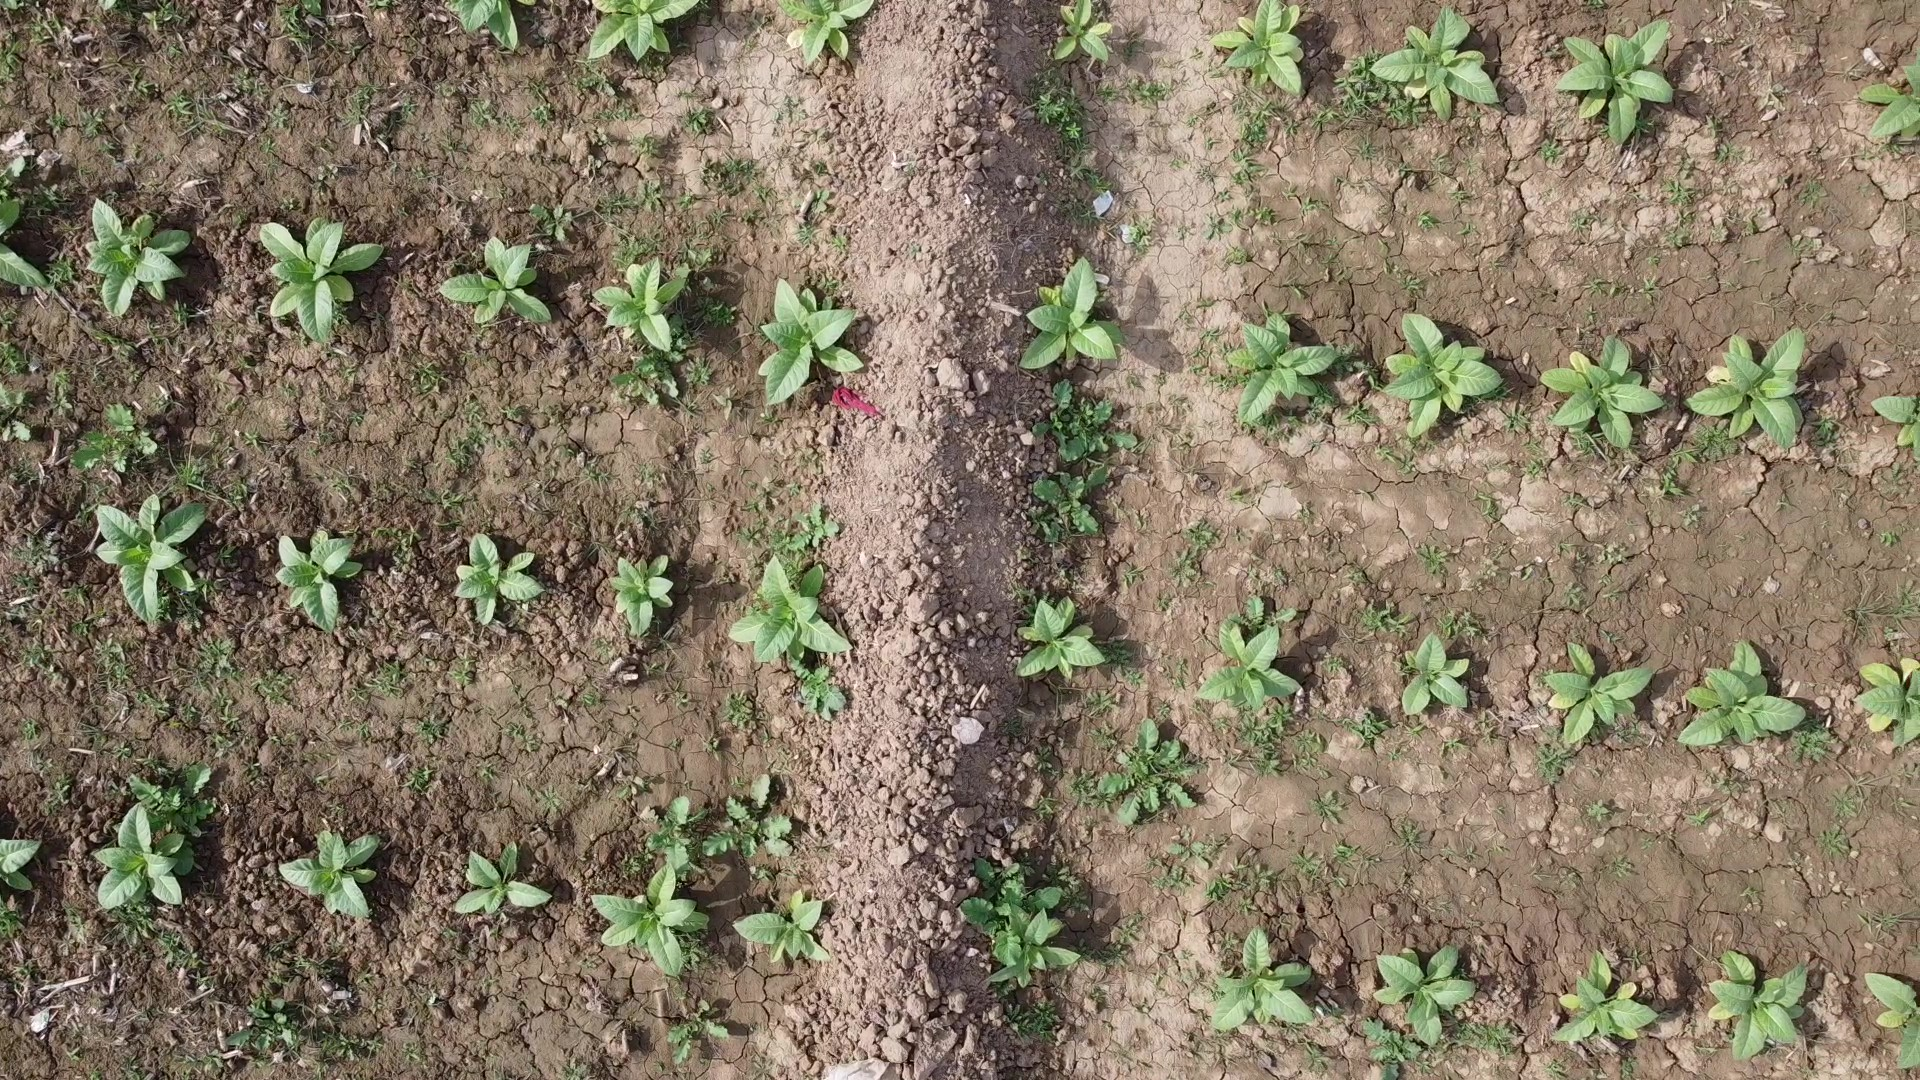weed: (259, 217, 384, 343), (1685, 328, 1811, 451), (1383, 313, 1504, 438), (1371, 4, 1500, 121), (1557, 19, 1673, 143), (1540, 334, 1664, 447), (97, 494, 206, 621), (758, 279, 864, 406), (591, 863, 709, 974), (729, 556, 853, 661), (1679, 641, 1805, 743), (1228, 312, 1339, 422), (85, 199, 189, 316), (1019, 256, 1123, 369), (1546, 640, 1652, 744), (1709, 951, 1808, 1059), (1212, 925, 1313, 1029), (1196, 618, 1301, 716), (1373, 946, 1476, 1045), (436, 236, 551, 322), (1551, 951, 1659, 1041), (94, 802, 184, 909), (1209, 0, 1304, 95), (593, 256, 687, 352), (280, 829, 380, 917), (277, 531, 363, 631), (454, 841, 553, 926), (454, 533, 544, 625), (1016, 596, 1106, 677), (732, 890, 829, 963), (588, 0, 700, 59), (778, 0, 875, 66), (1006, 907, 1080, 986), (1402, 631, 1469, 716), (1858, 658, 1920, 747), (1865, 972, 1920, 1067), (609, 556, 672, 637), (1860, 66, 1920, 143), (456, 0, 534, 52), (0, 200, 46, 288), (1053, 0, 1114, 61), (1872, 395, 1920, 456), (0, 837, 41, 891)
